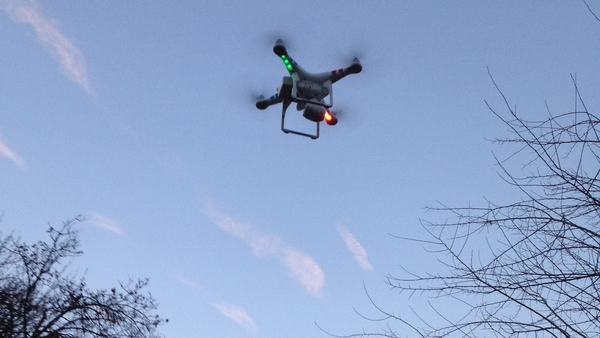drone: (252, 35, 364, 141)
